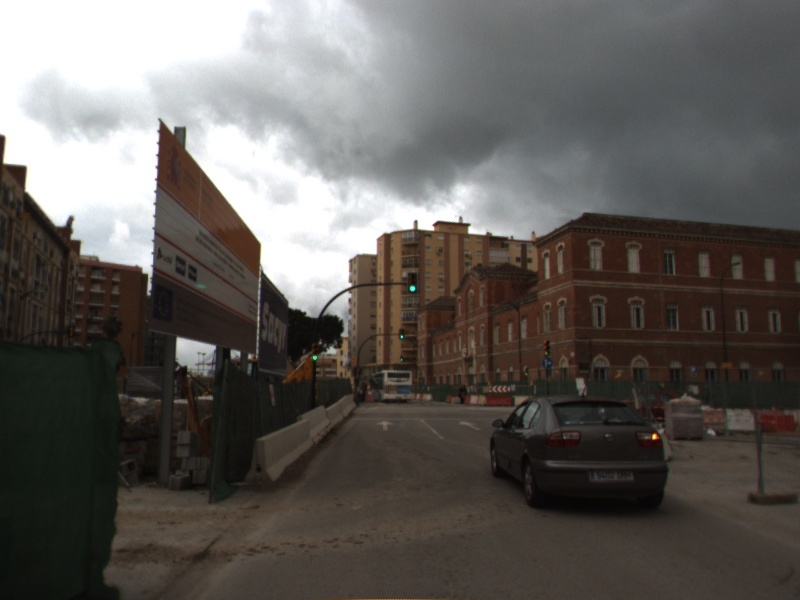STRAIGHT: (457, 419, 483, 433), (374, 419, 397, 433)
